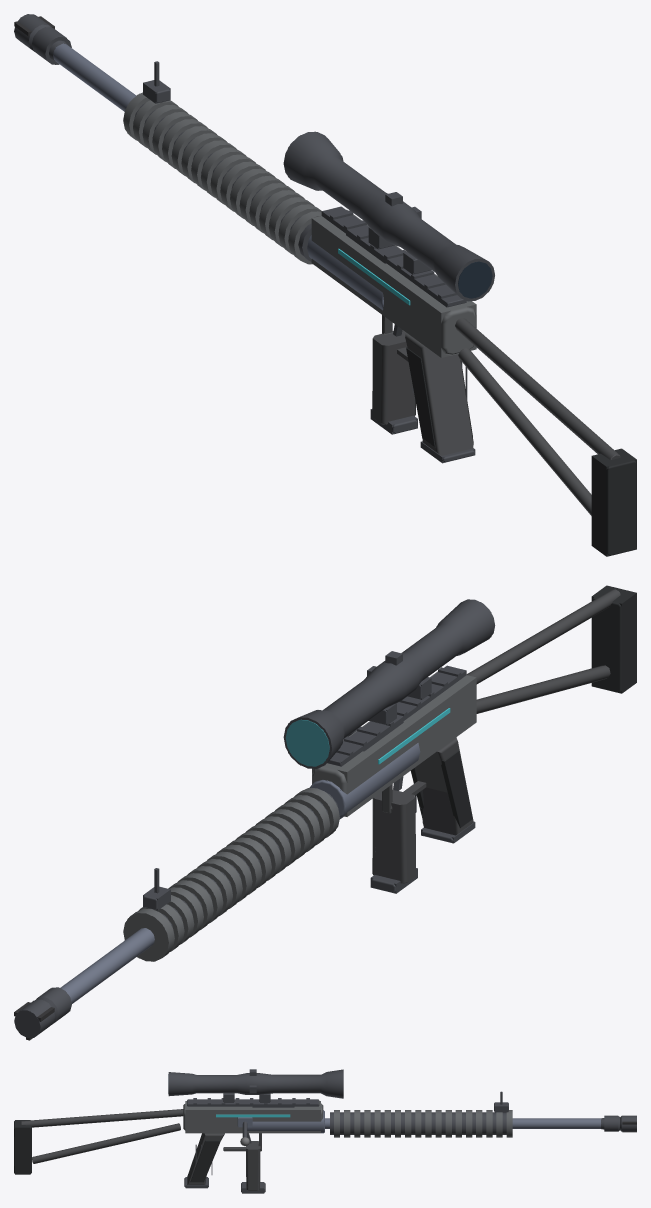
The model's file is n_lattice.glb.
3 views of the same model, one above another, from view 1: azimuth 30°, elevation 25°; view 2: azimuth 150°, elevation 25°; view 3: azimuth 270°, elevation 25° (orthographic). The views are drawn at different scales.
Parts seen in each view (by area): view 1: L0, L1; view 2: L0, L1; view 3: L0, L1.
Part boxes in pixels (x1,y1,x2,y2): L0: (14,14,636,555); L1: (15,15,636,556); L0: (14,586,636,1040); L1: (14,585,636,1038); L0: (14,1069,636,1192); L1: (15,1069,636,1193).
Size of the model in its own units: 0.1095 by 0.2335 by 1.1.
